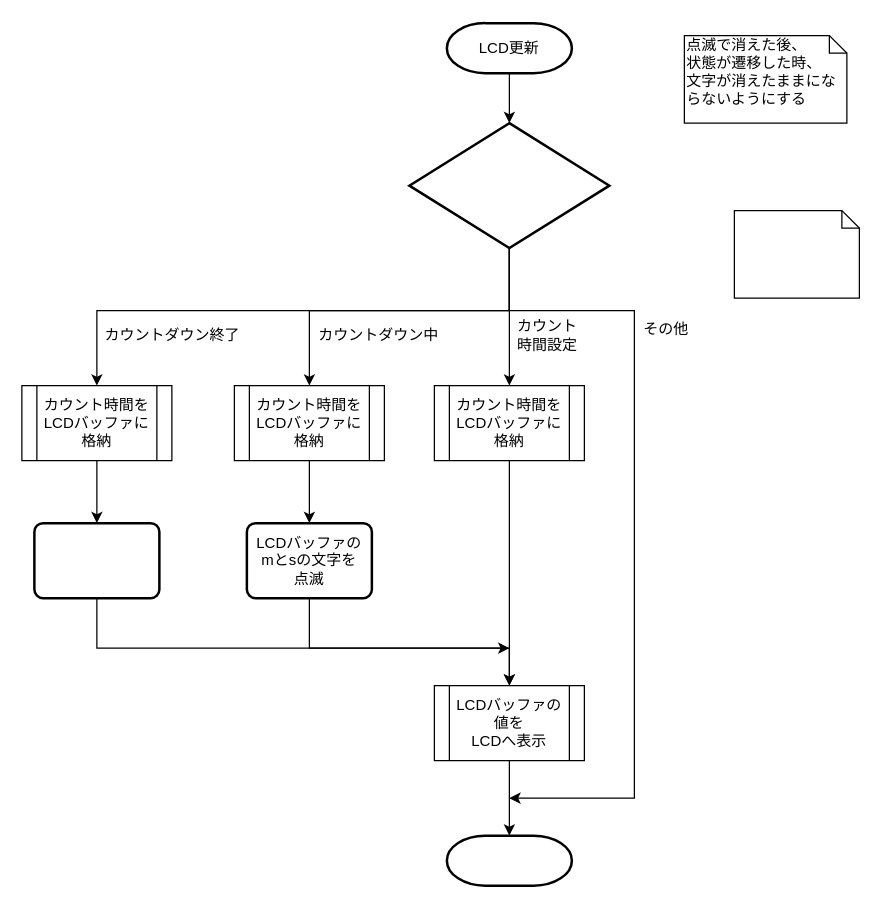
Image size: 881x908. Some labels were removed from this diagram. Here are the shapes that lost their labels. From the top down, the centre of each, then its label:
point 509,185: キッチンタイマー状態 は = ?
point 796,253: 書き換え時、 下の行だけ、上から空白を書き込むなど、工夫をする
point 96,560: LCDバッファの 文字を点滅
point 508,860: end
